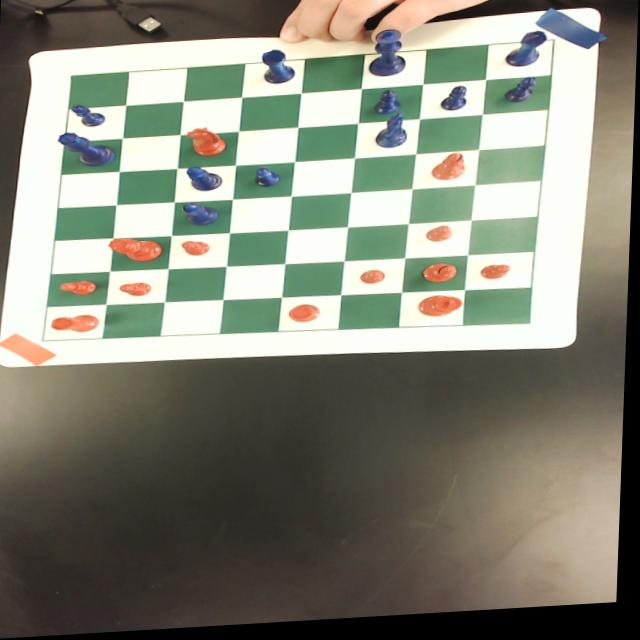B: (185, 167, 224, 195), (182, 204, 222, 230)
K: (367, 33, 408, 82)
N: (374, 117, 409, 155)
P: (502, 83, 539, 110), (70, 103, 106, 129), (373, 93, 399, 120), (440, 92, 468, 117), (254, 170, 282, 191)
Q: (56, 131, 117, 170)
R: (504, 37, 547, 74), (259, 52, 296, 88)
b: (431, 157, 466, 187), (424, 269, 459, 289)
cb: (44, 47, 554, 342)
k: (419, 300, 463, 324)
n: (185, 129, 227, 161)
p: (119, 283, 154, 300), (60, 282, 99, 297), (181, 242, 213, 260), (480, 270, 513, 287), (426, 230, 455, 249), (359, 273, 388, 290)
q: (109, 238, 164, 266)
r: (51, 315, 100, 335), (290, 308, 322, 327)
